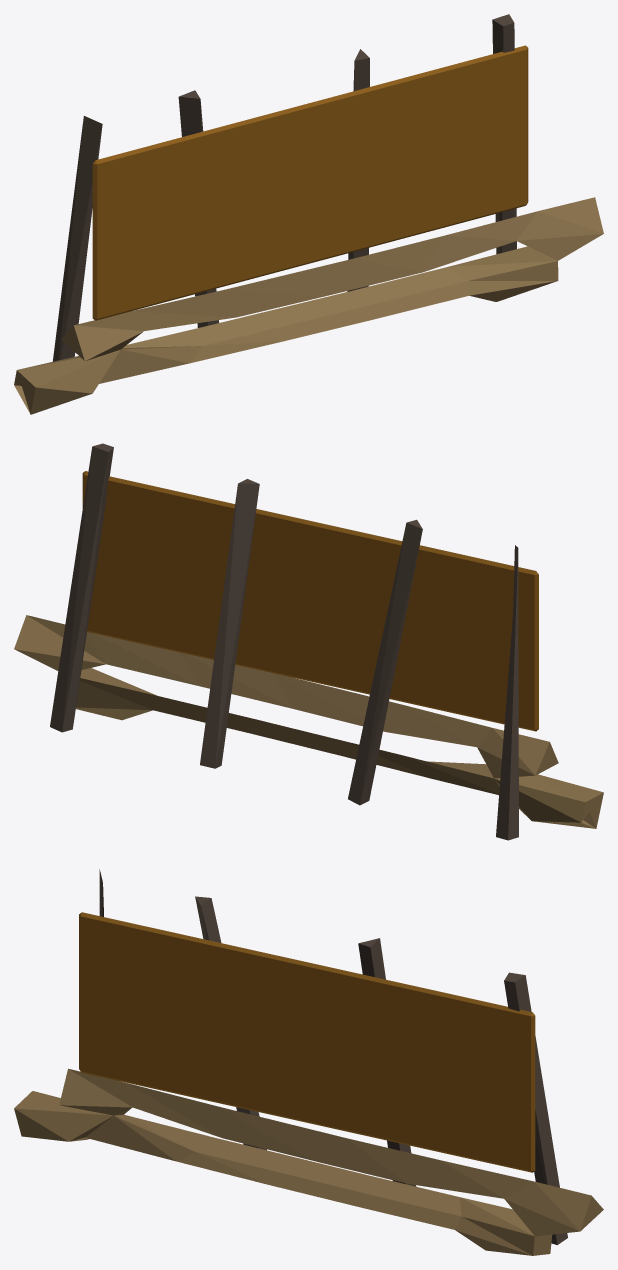
Rendered from barricade-lod1.glb.
3 views of the same model, one above another, from view 1: azimuth 30°, elevation 25°; view 2: azimuth 150°, elevation 25°; view 3: azimuth 330°, elevation 25° (orthographic).
Size of the model in its own units: 4.08 by 1.9 by 0.5262.
